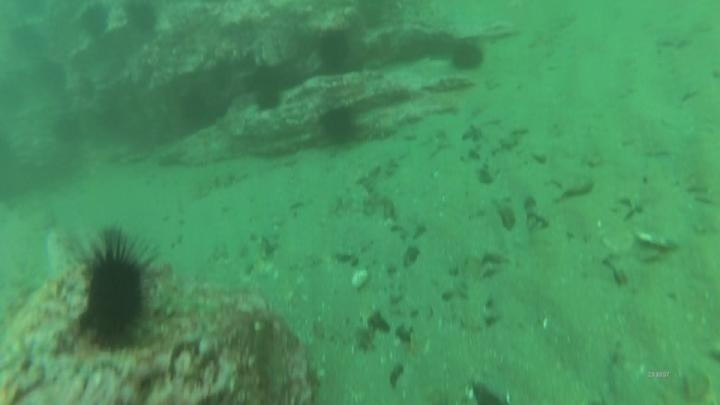echinus: (79, 241, 154, 349), (315, 103, 362, 148), (314, 27, 355, 75), (447, 39, 487, 75), (251, 82, 285, 114)
